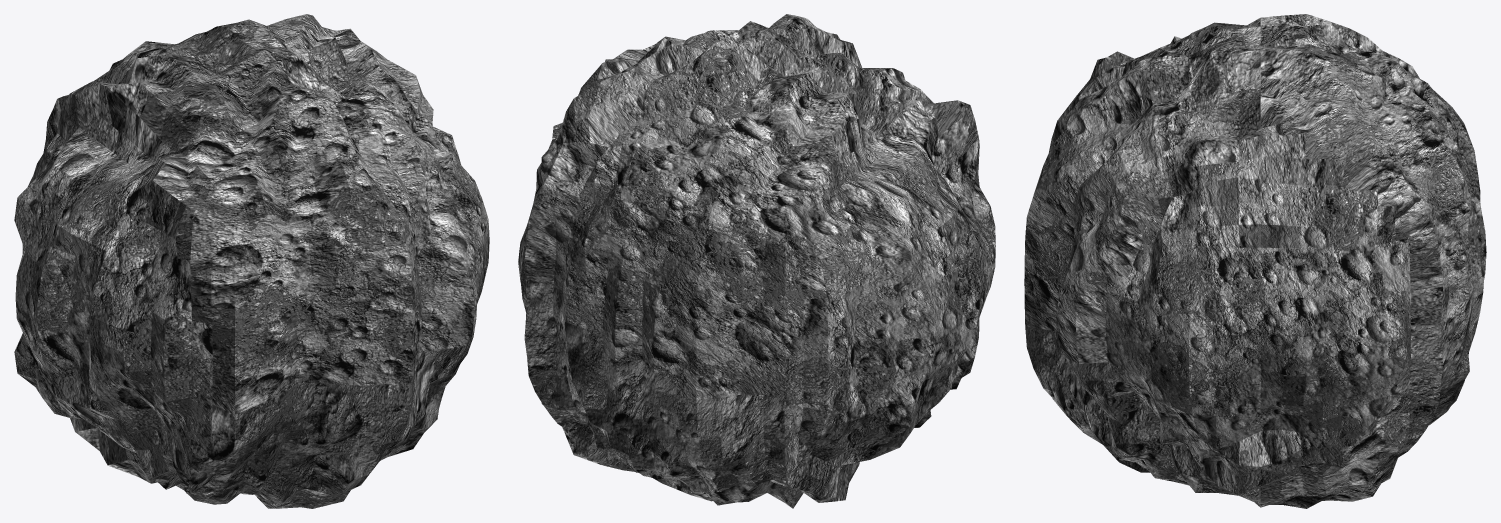
Rendered from asteroid140.obj.
3 views of the same model, side by side, from view 1: azimuth 30°, elevation 25°; view 2: azimuth 150°, elevation 25°; view 3: azimuth 270°, elevation 25° (orthographic).
Visible parts, largest first — view 1: Cube_Cube.002; view 2: Cube_Cube.002; view 3: Cube_Cube.002.
Part boxes in pixels (x1,y1,x2,y2): Cube_Cube.002: [14, 14, 489, 508]; Cube_Cube.002: [518, 14, 995, 508]; Cube_Cube.002: [1024, 14, 1486, 508].
Bounding box in the file's own units: 1.81 × 1.86 × 1.75.
